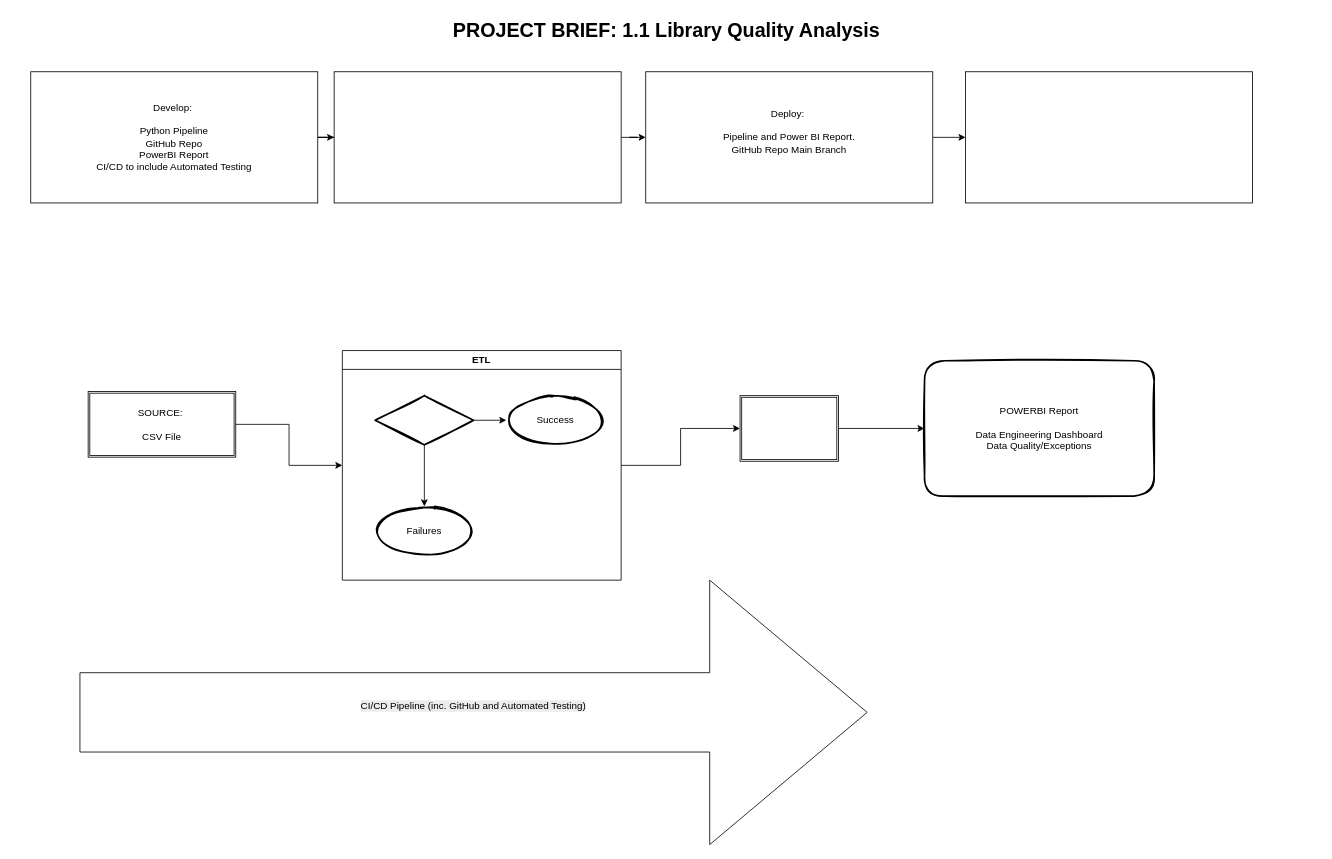
Image size: 1332x859. Some labels were removed from this diagram. The centre of each missing label's shape, as x and y in pixels:
"Demo/Sign-off prior to going to Production/Go Live. Comms to users" goes at pixel 1109 137.
"DESTINATION: ??" goes at pixel 788 428.
"Python" goes at pixel 424 419.
"Test: Python UnitTest Stakeholder UAT" goes at pixel 477 137.
